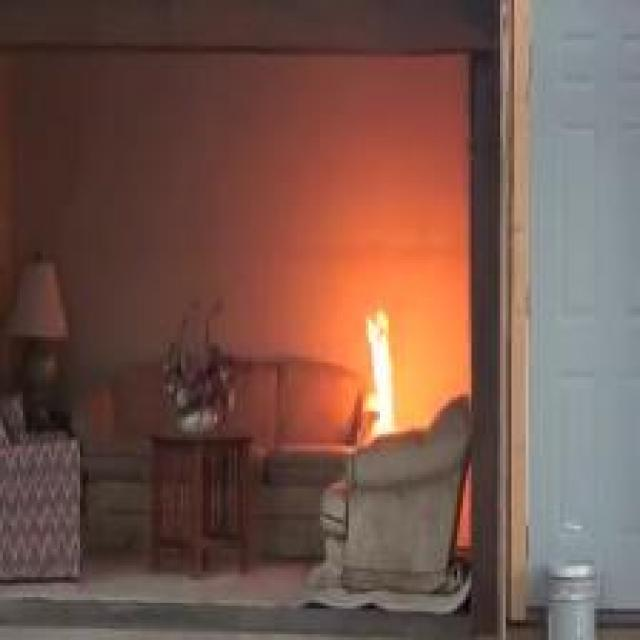Fire: (364, 314, 402, 440)
